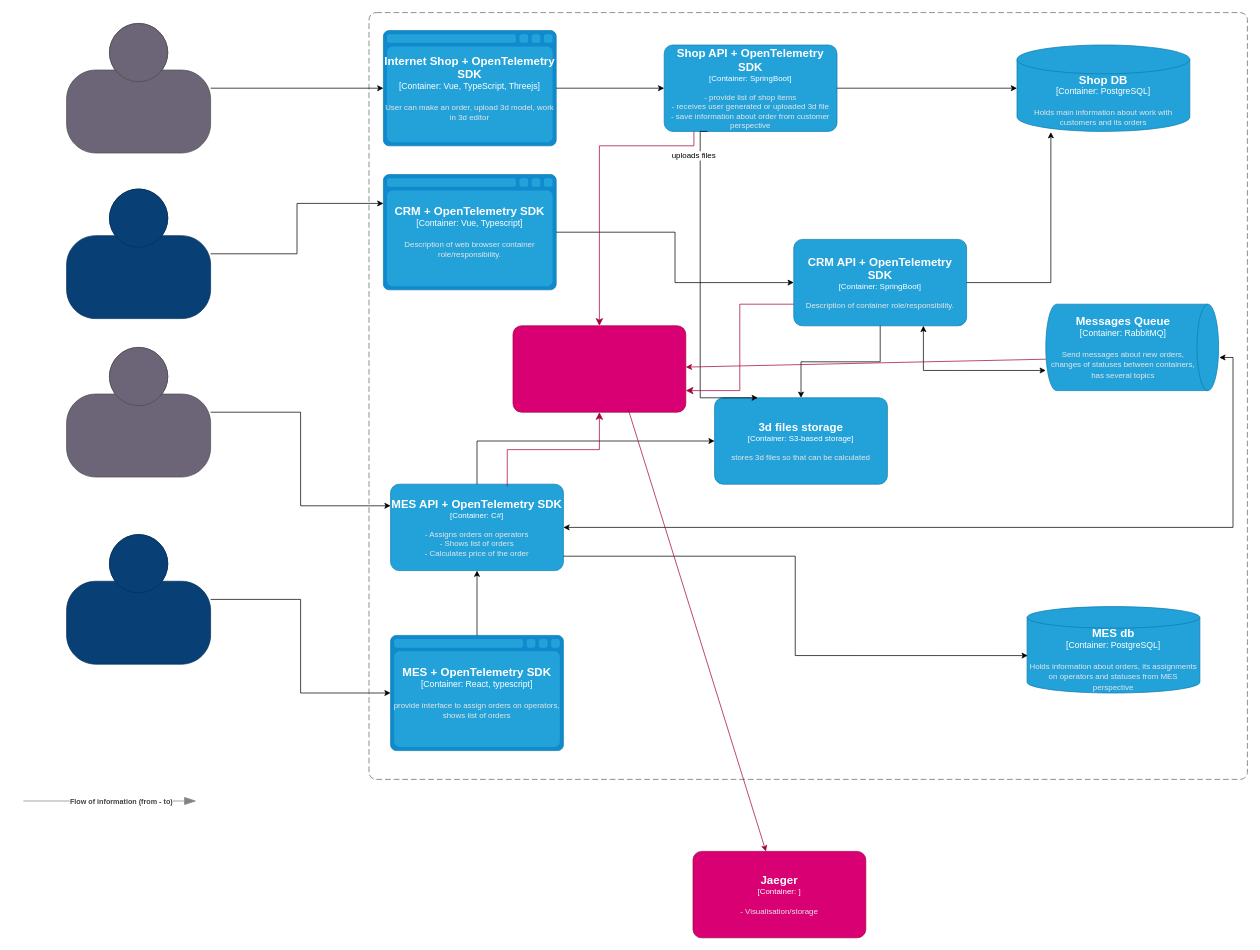
Some shapes in this 1260 by 950 pixel diagram are drawn without their labels. The box of each missing label's shape, as (x1, y1, x2, y2) in pixels:
API user [Person] Description of external person.: (66, 347, 211, 477)
Customer [Person] Description of external person.: (66, 23, 211, 153)
Jewerly Store System [Software System]: (368, 12, 1247, 779)
Operator [Person] Takes order in work, manufactures jewerly: (66, 534, 211, 664)
OTel Collector [Container: ] - Collect trace info from all backend services: (512, 325, 686, 412)
Seller [Person] Operates with order, confirms manufacturing for the user: (66, 188, 211, 319)
